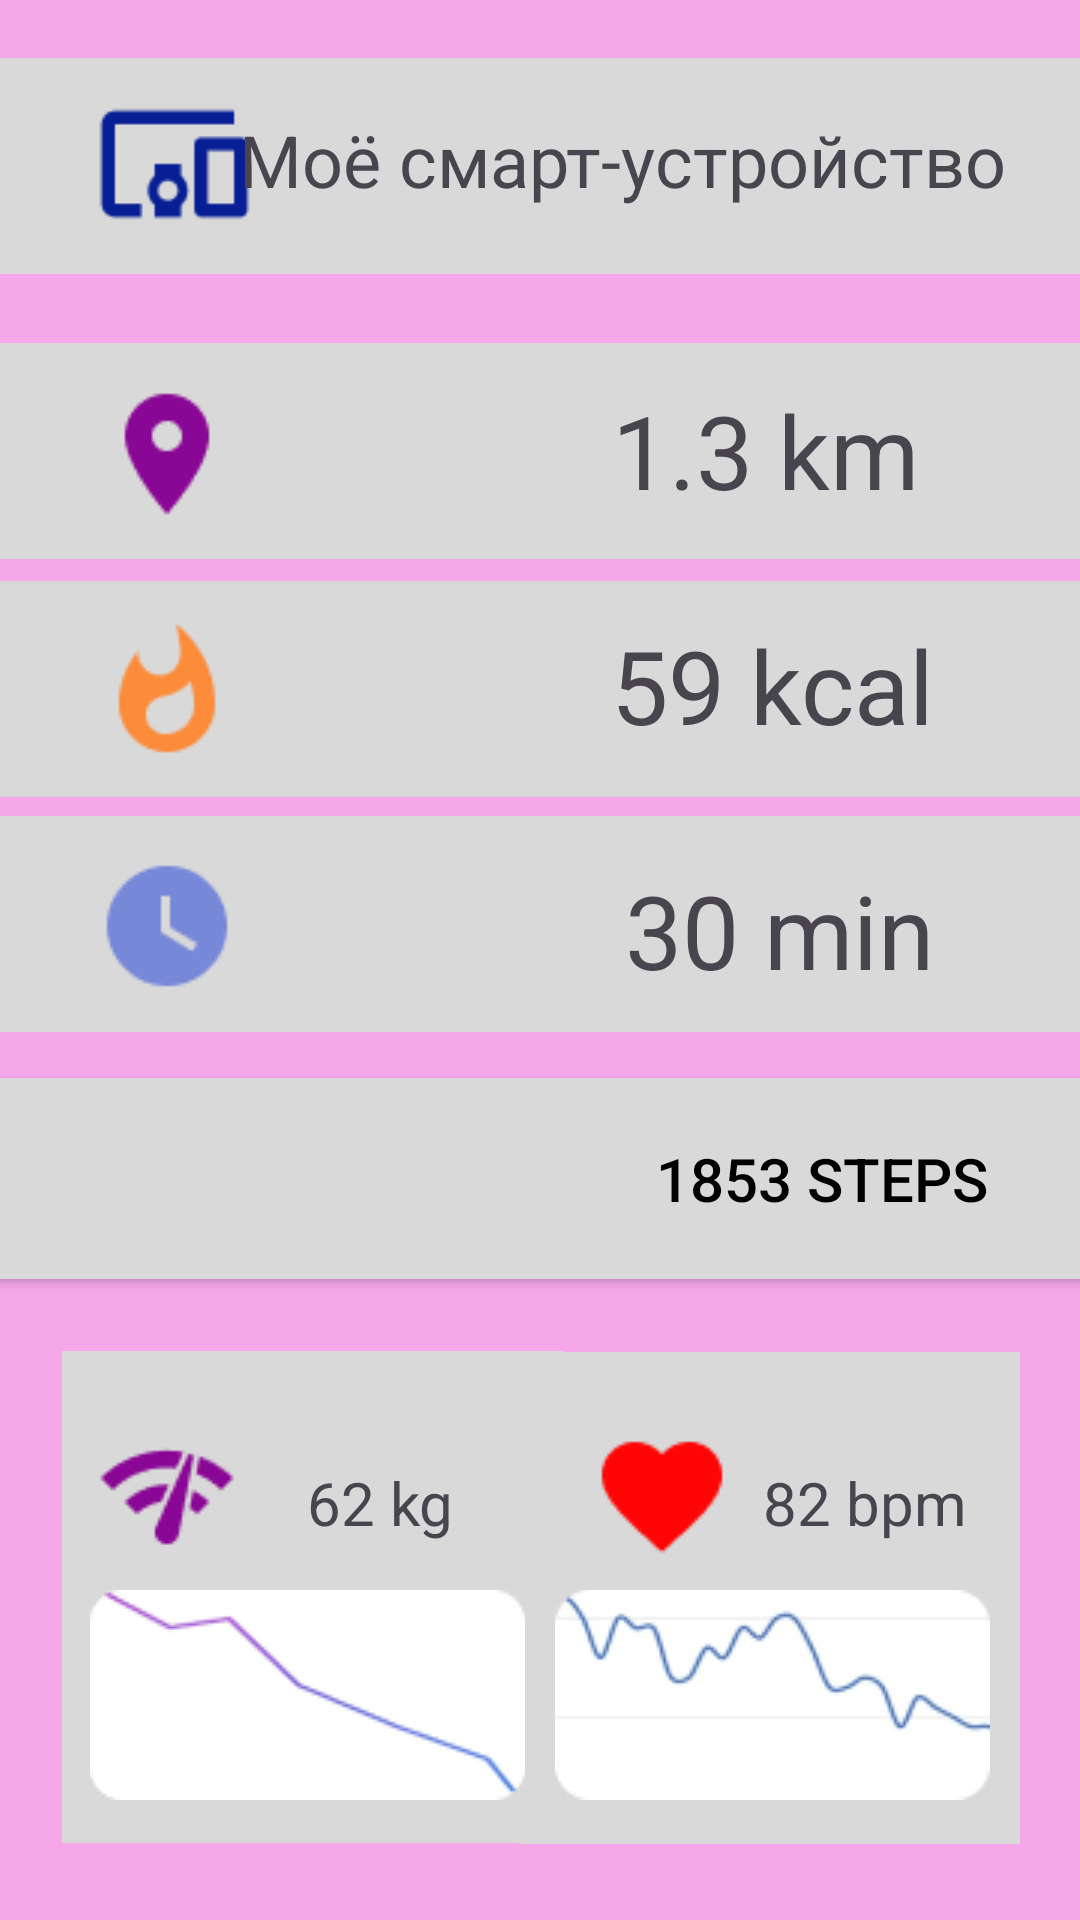

Icons on this 1080 × 1920 Android screen, each with its box as (x1, y1, x2, y2):
devices other: (99, 109, 235, 219)
favorite: (601, 1441, 723, 1553)
network check: (100, 1449, 234, 1545)
place: (124, 393, 210, 515)
watch later: (106, 865, 228, 987)
whatshot: (118, 624, 216, 753)
